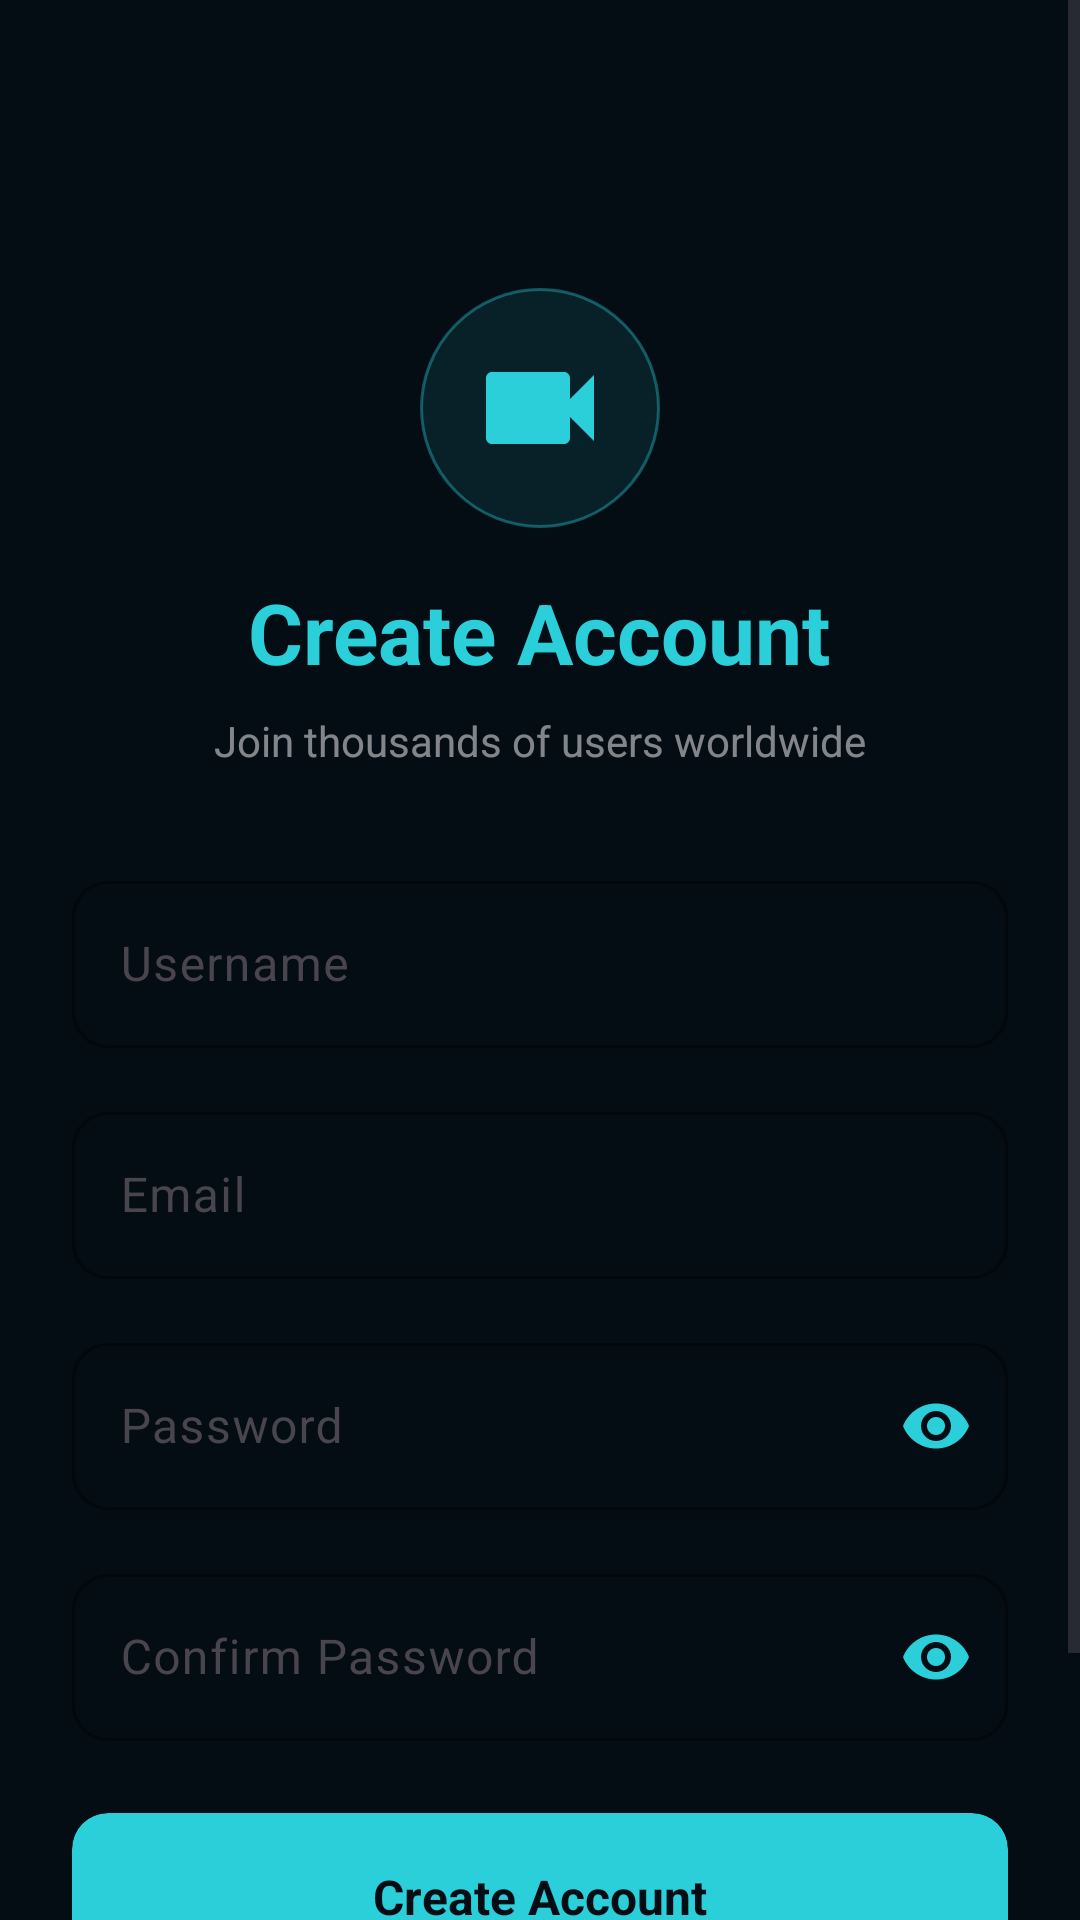

Screen size 1080×1920. Icon name, then its center in pixels as (x=x, y=y):
videocam: (x=540, y=408)
